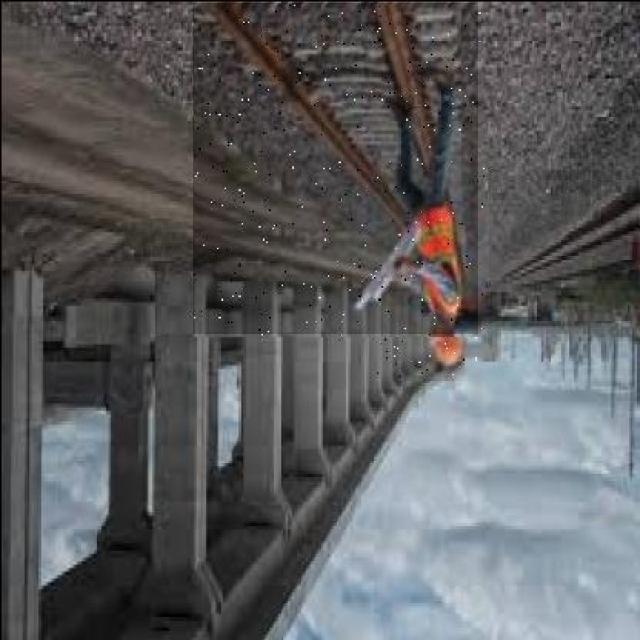rail: (195, 4, 479, 335), (491, 171, 640, 291)
